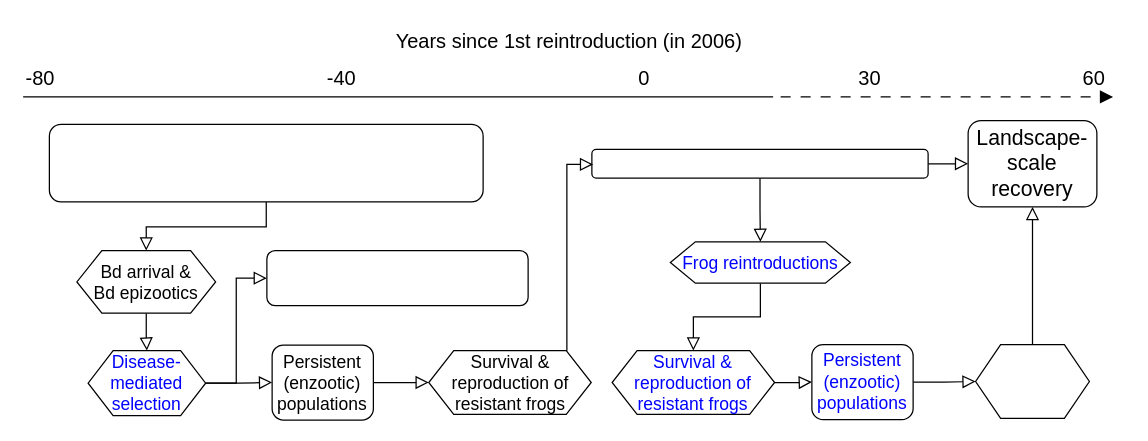
Image size: 1148x441. Some labels were removed from this diagram. The box of each missing label's shape, as (x1, y1, x2, y2) in pixels:
Extirpated populations: (266, 249, 528, 306)
Long-term population viability: (974, 343, 1089, 418)
Naturally recovering populations: (591, 148, 928, 178)
Original populations (all Bd-naive): (48, 123, 483, 202)
